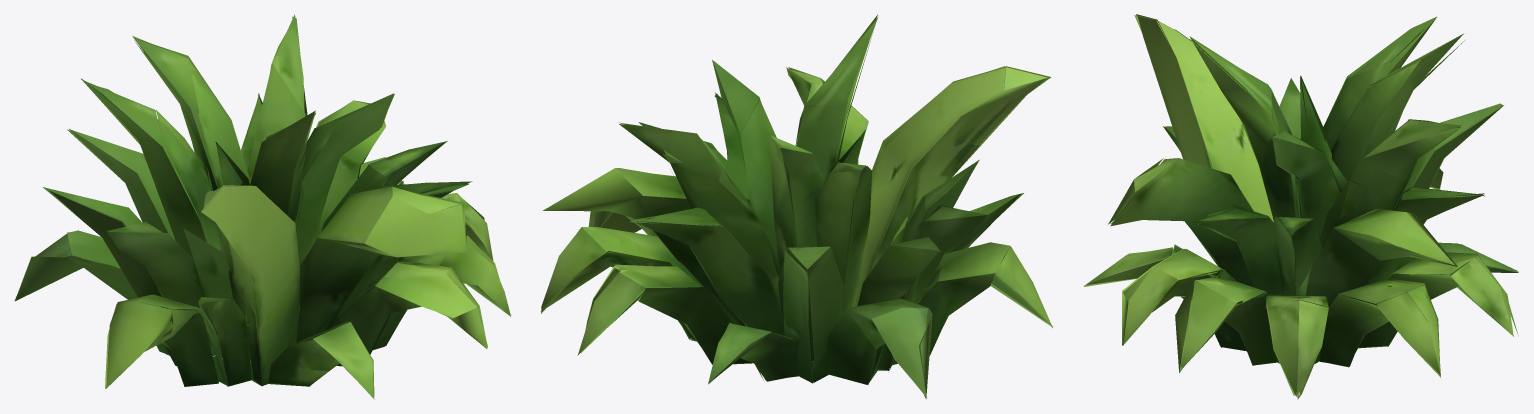
Rendered from grass_gen_d.glb.
3 views of the same model, side by side, from view 1: azimuth 30°, elevation 25°; view 2: azimuth 150°, elevation 25°; view 3: azimuth 270°, elevation 25° (orthographic). The views are drawn at different scales.
Parts seen in each view (by area): view 1: grass_gen.003; view 2: grass_gen.003; view 3: grass_gen.003.
Part boxes in pixels (x1,y1,x2,y2): grass_gen.003: (14, 14, 510, 399); grass_gen.003: (540, 14, 1052, 399); grass_gen.003: (1083, 14, 1518, 399).
Bounding box in the file's own units: 2.33 × 1.51 × 2.1.
1 material, 1 textured.
